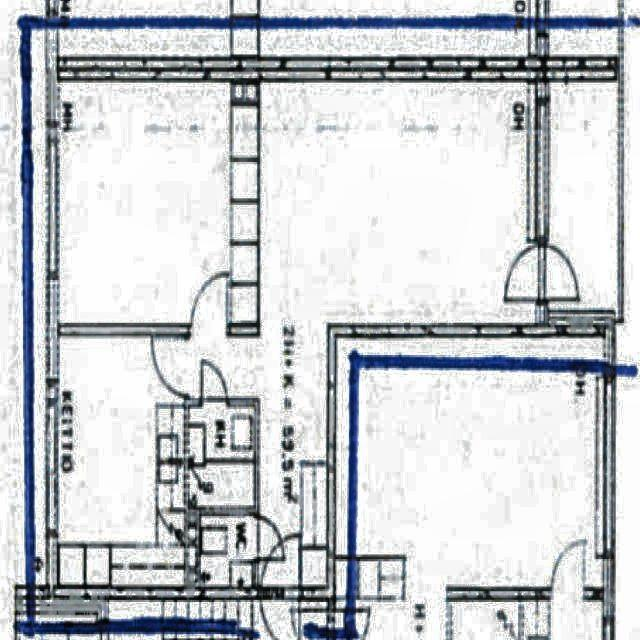room: (58, 78, 257, 324), (58, 334, 185, 589), (188, 405, 255, 507), (199, 513, 256, 587)
